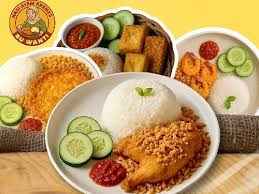Ayam goreng: (116, 115, 208, 191)
Nasi putih: (99, 72, 180, 138), (0, 54, 45, 98), (211, 72, 252, 120)
Tahu goreng: (120, 19, 148, 54), (124, 49, 147, 74)
Telur dadar: (29, 67, 88, 120)
Tempe goreng: (144, 33, 170, 74)
